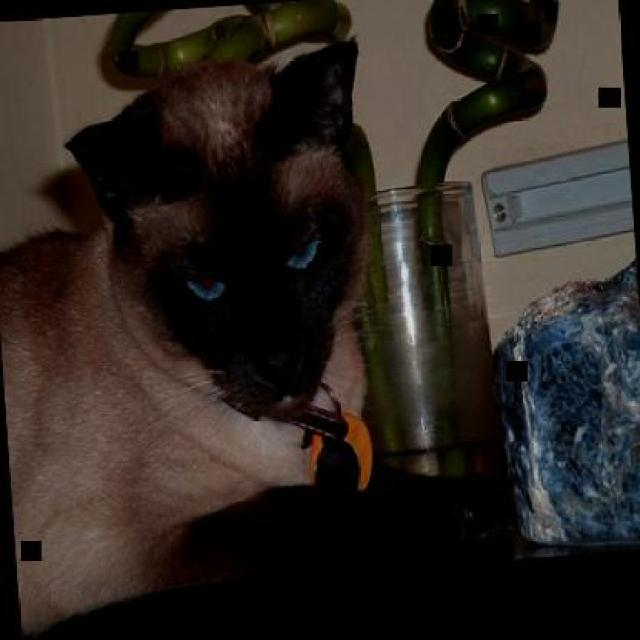cat: (0, 27, 514, 638)
